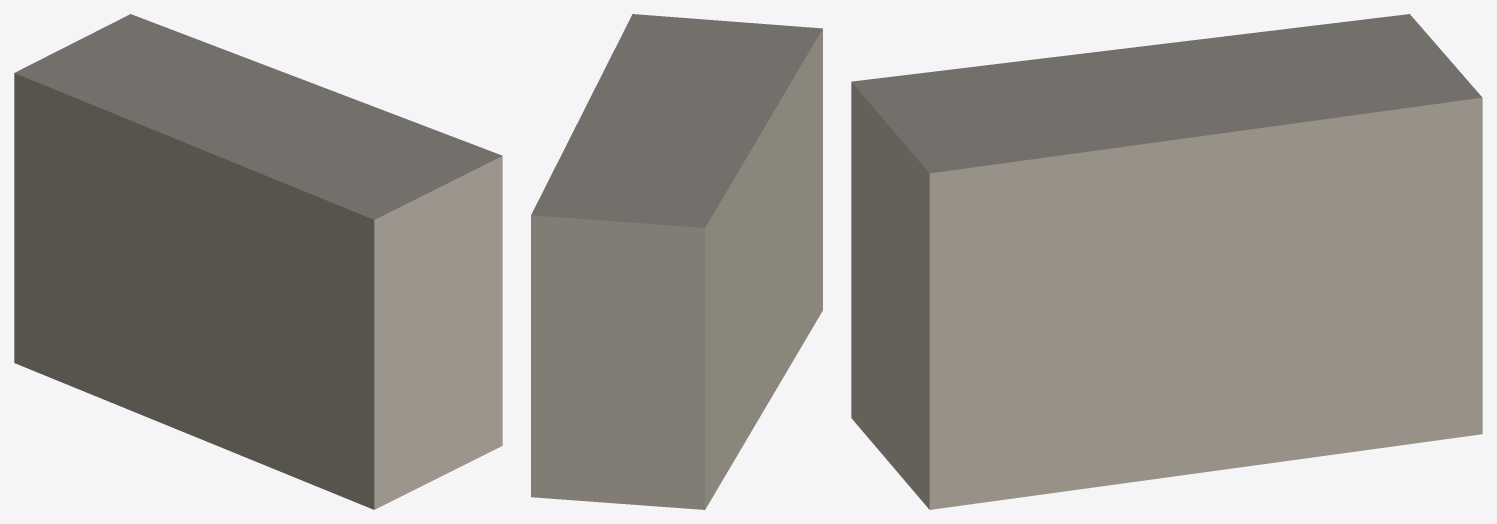
The picture shows the model from 3 angles, left to right: view 1: azimuth 30°, elevation 25°; view 2: azimuth 150°, elevation 25°; view 3: azimuth 270°, elevation 25°; orthographic projection. The views are drawn at different scales.
Parts seen in each view (by area): view 1: HP-w1197061593; view 2: HP-w1197061593; view 3: HP-w1197061593.
Part boxes in pixels (bbox=[...]): HP-w1197061593: bbox=[14, 14, 502, 509]; HP-w1197061593: bbox=[531, 14, 822, 509]; HP-w1197061593: bbox=[851, 14, 1482, 509].
Size of the model in its own units: 18.29 by 18 by 30.59.
